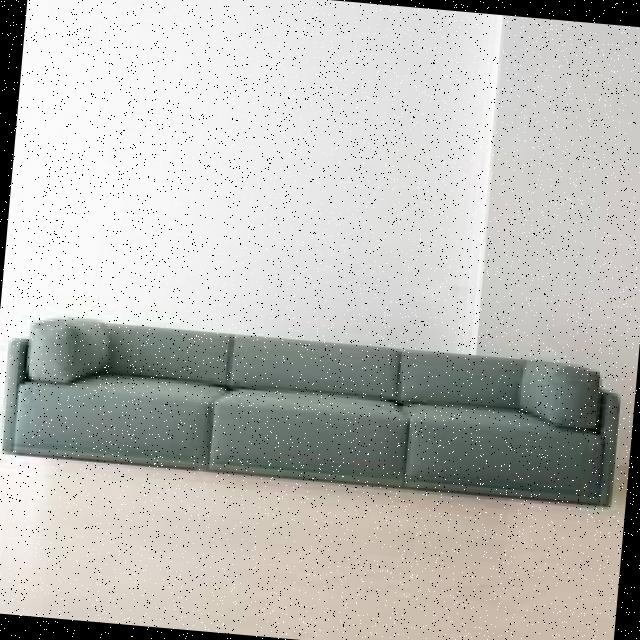Sofa: (0, 289, 639, 530)
